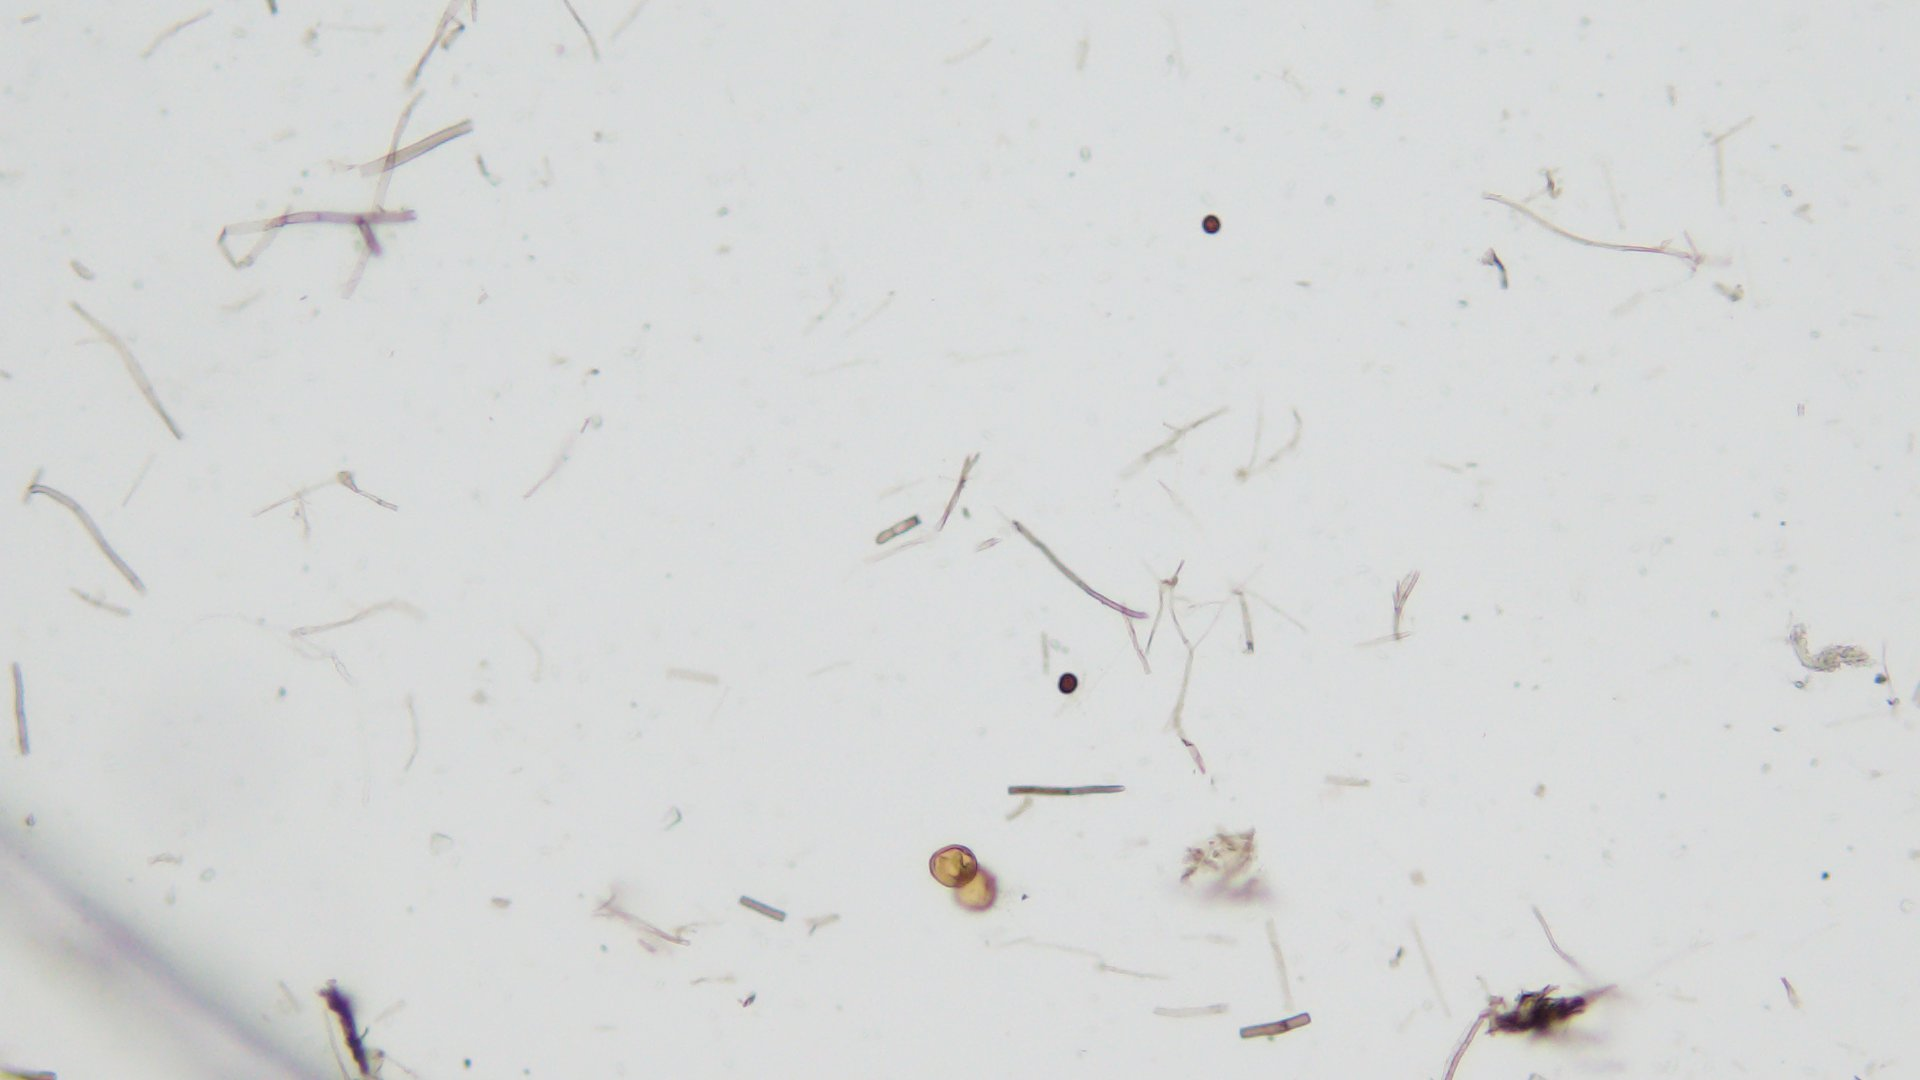shs_spore: (1058, 673, 1080, 694), (1199, 215, 1221, 233)
xb_spore: (920, 843, 977, 889)
